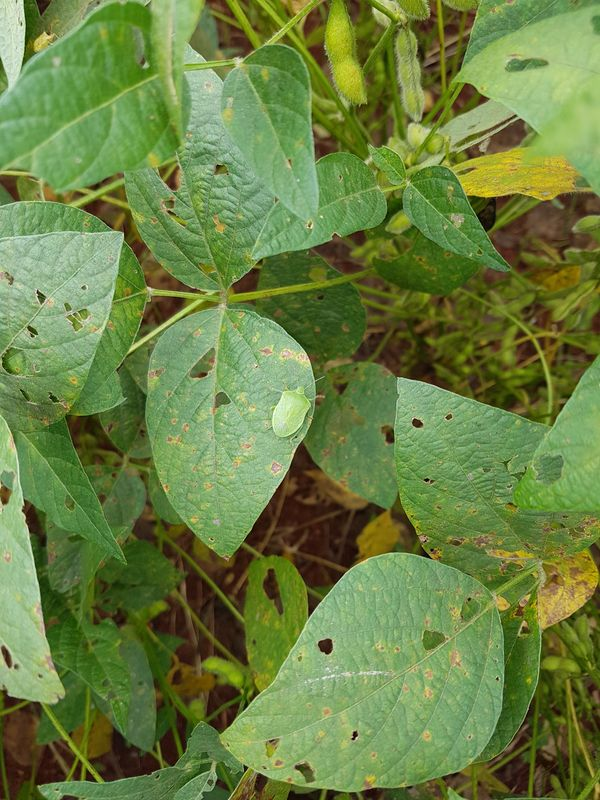Euschistus_heros_ninfa: (28, 26, 62, 54)
Nezara_viridula_adulto: (262, 373, 332, 447)
